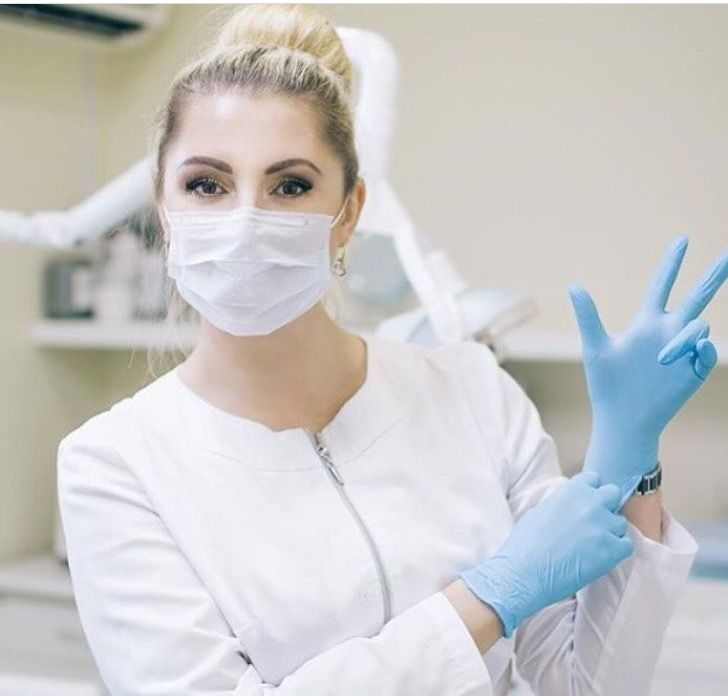Gloves: (564, 237, 728, 467), (442, 473, 636, 639)
with_mask: (164, 148, 337, 330)
